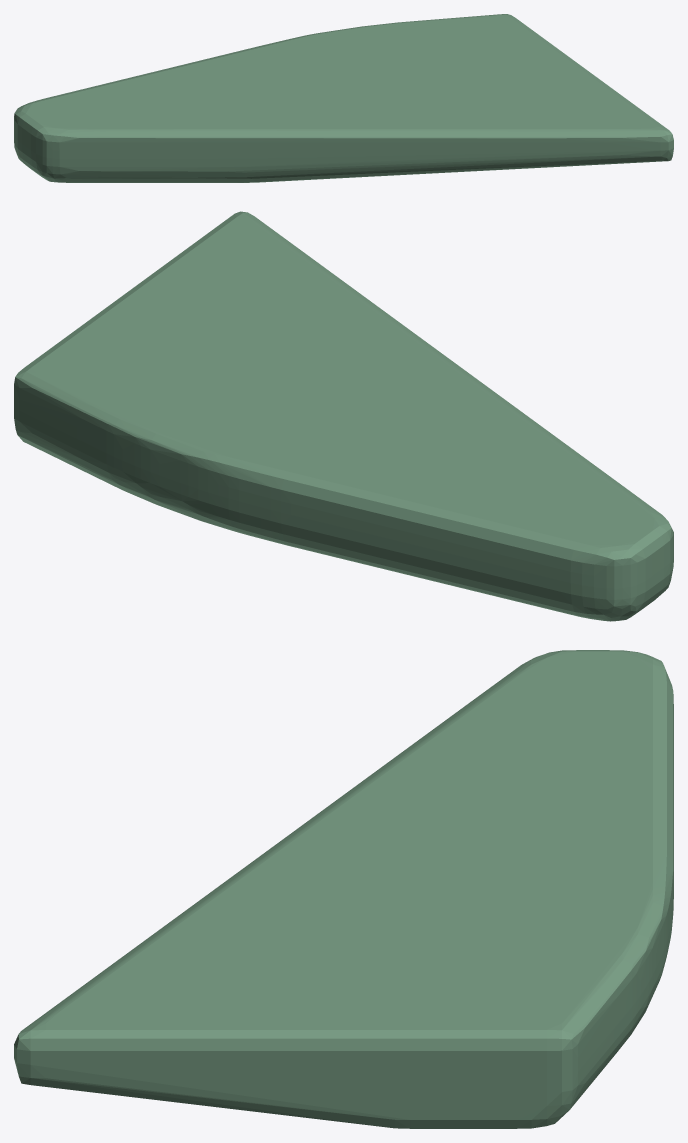
File: right_ankle_link_part_0.obj
3 renders of one model, top to bottom at view 1: azimuth 30°, elevation 25°; view 2: azimuth 150°, elevation 25°; view 3: azimuth 270°, elevation 25°, orthographic. The views are drawn at different scales.
Bounding box in the file's own units: 0.0764 × 0.00887 × 0.0543.
